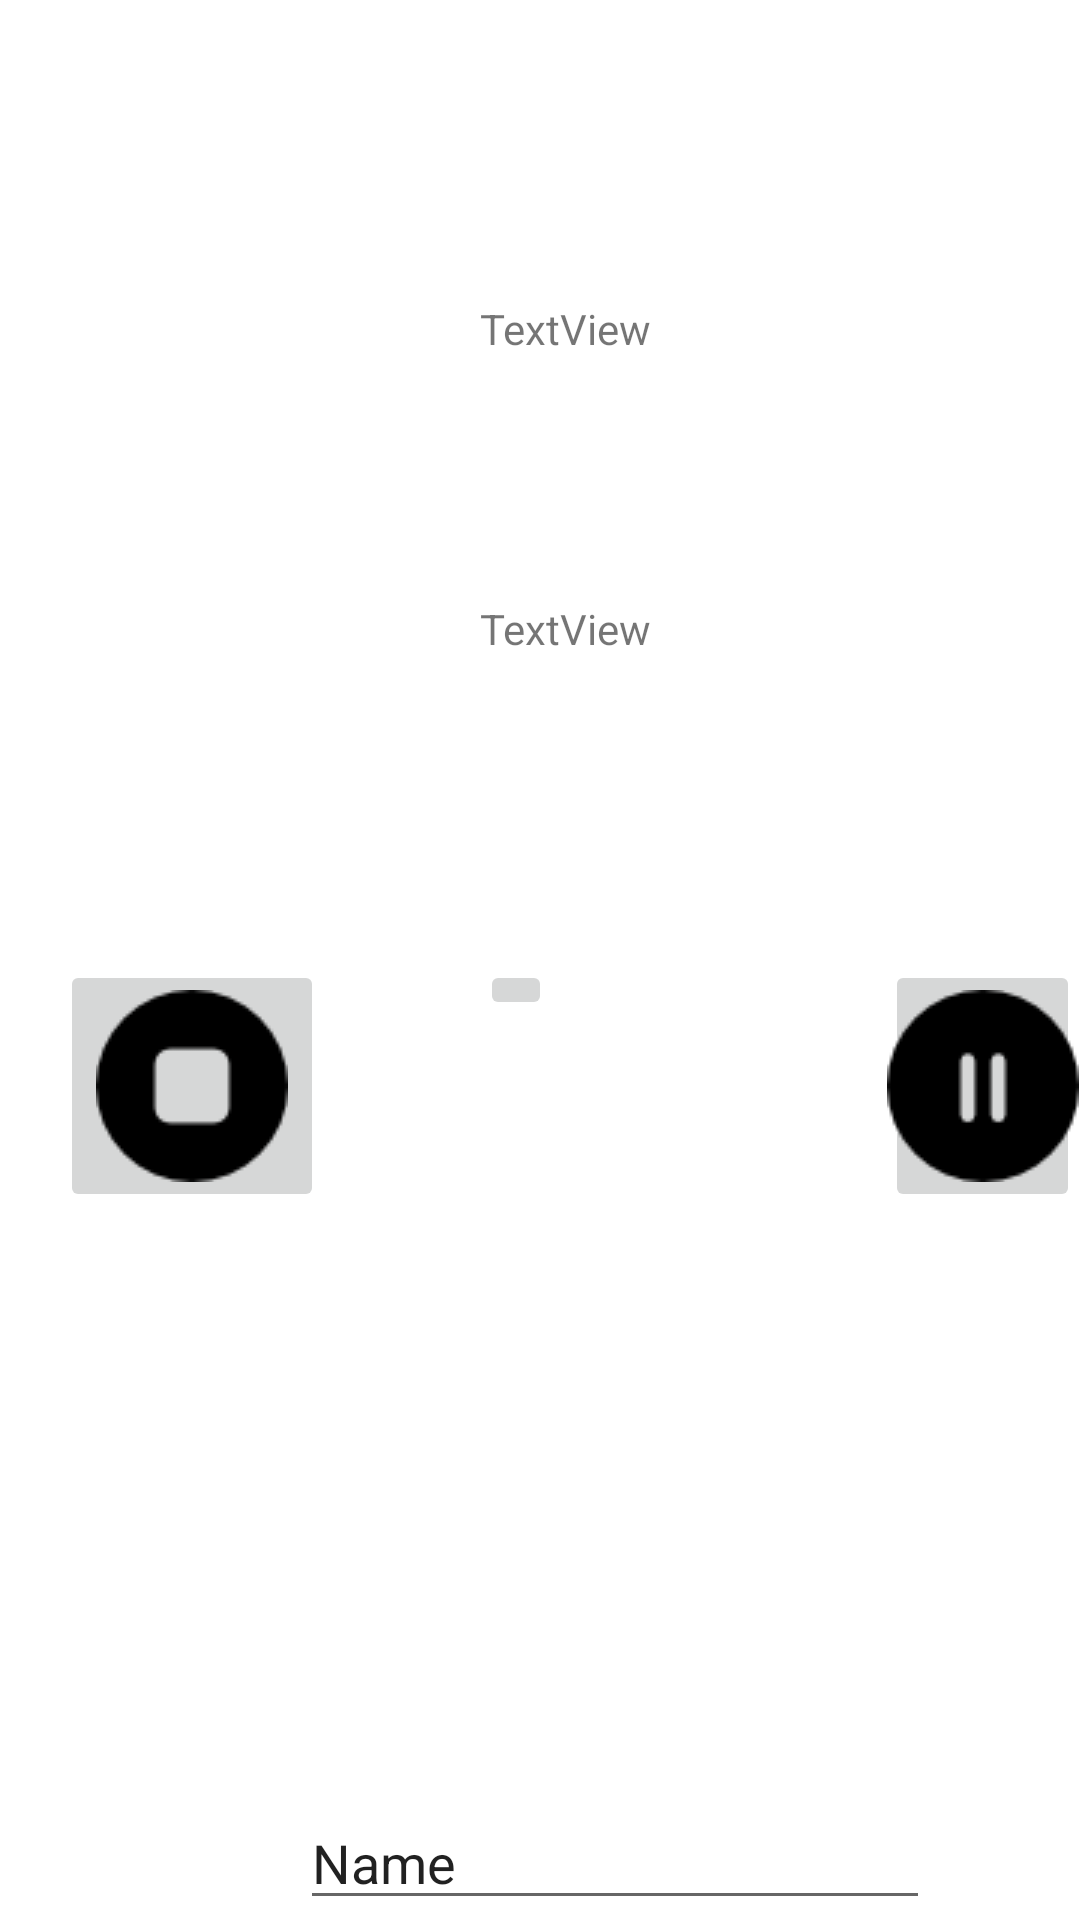

Icon click points for this 1080×1920 phone screenshot, format point (x, y):
pause: point (983, 1086)
stop: point (192, 1086)
